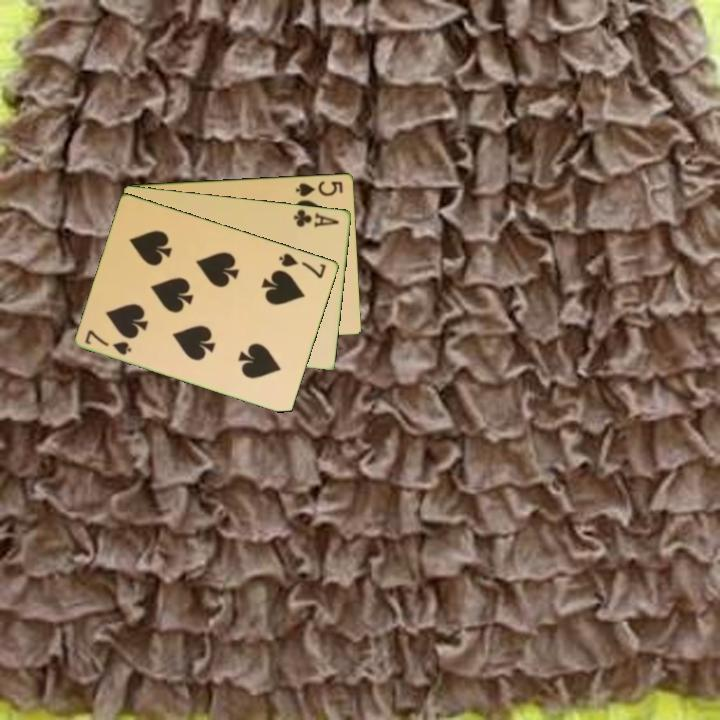5s: (292, 177, 346, 199)
7s: (276, 249, 329, 281), (82, 326, 135, 358)
Ac: (291, 205, 342, 230)
